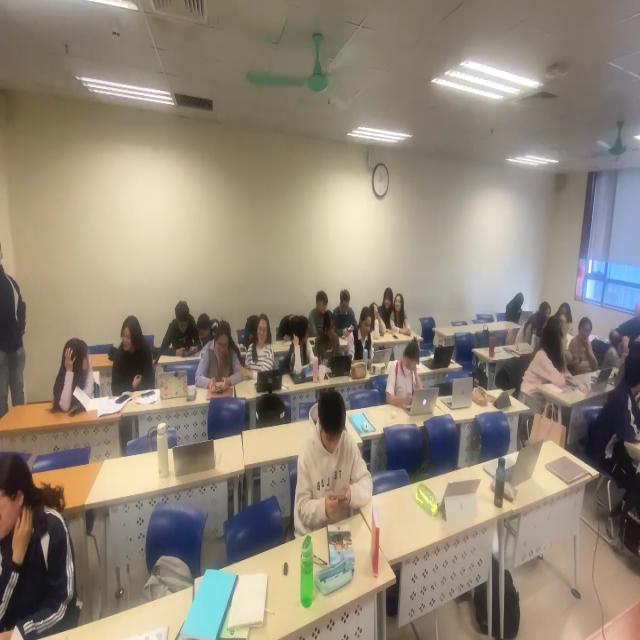raise_head: (249, 308, 281, 395), (390, 290, 413, 341), (311, 291, 337, 319)
stand: (1, 237, 31, 418)
using_computer: (391, 347, 430, 420)
using_phone: (311, 413, 366, 531), (200, 318, 246, 405), (169, 302, 200, 364)
